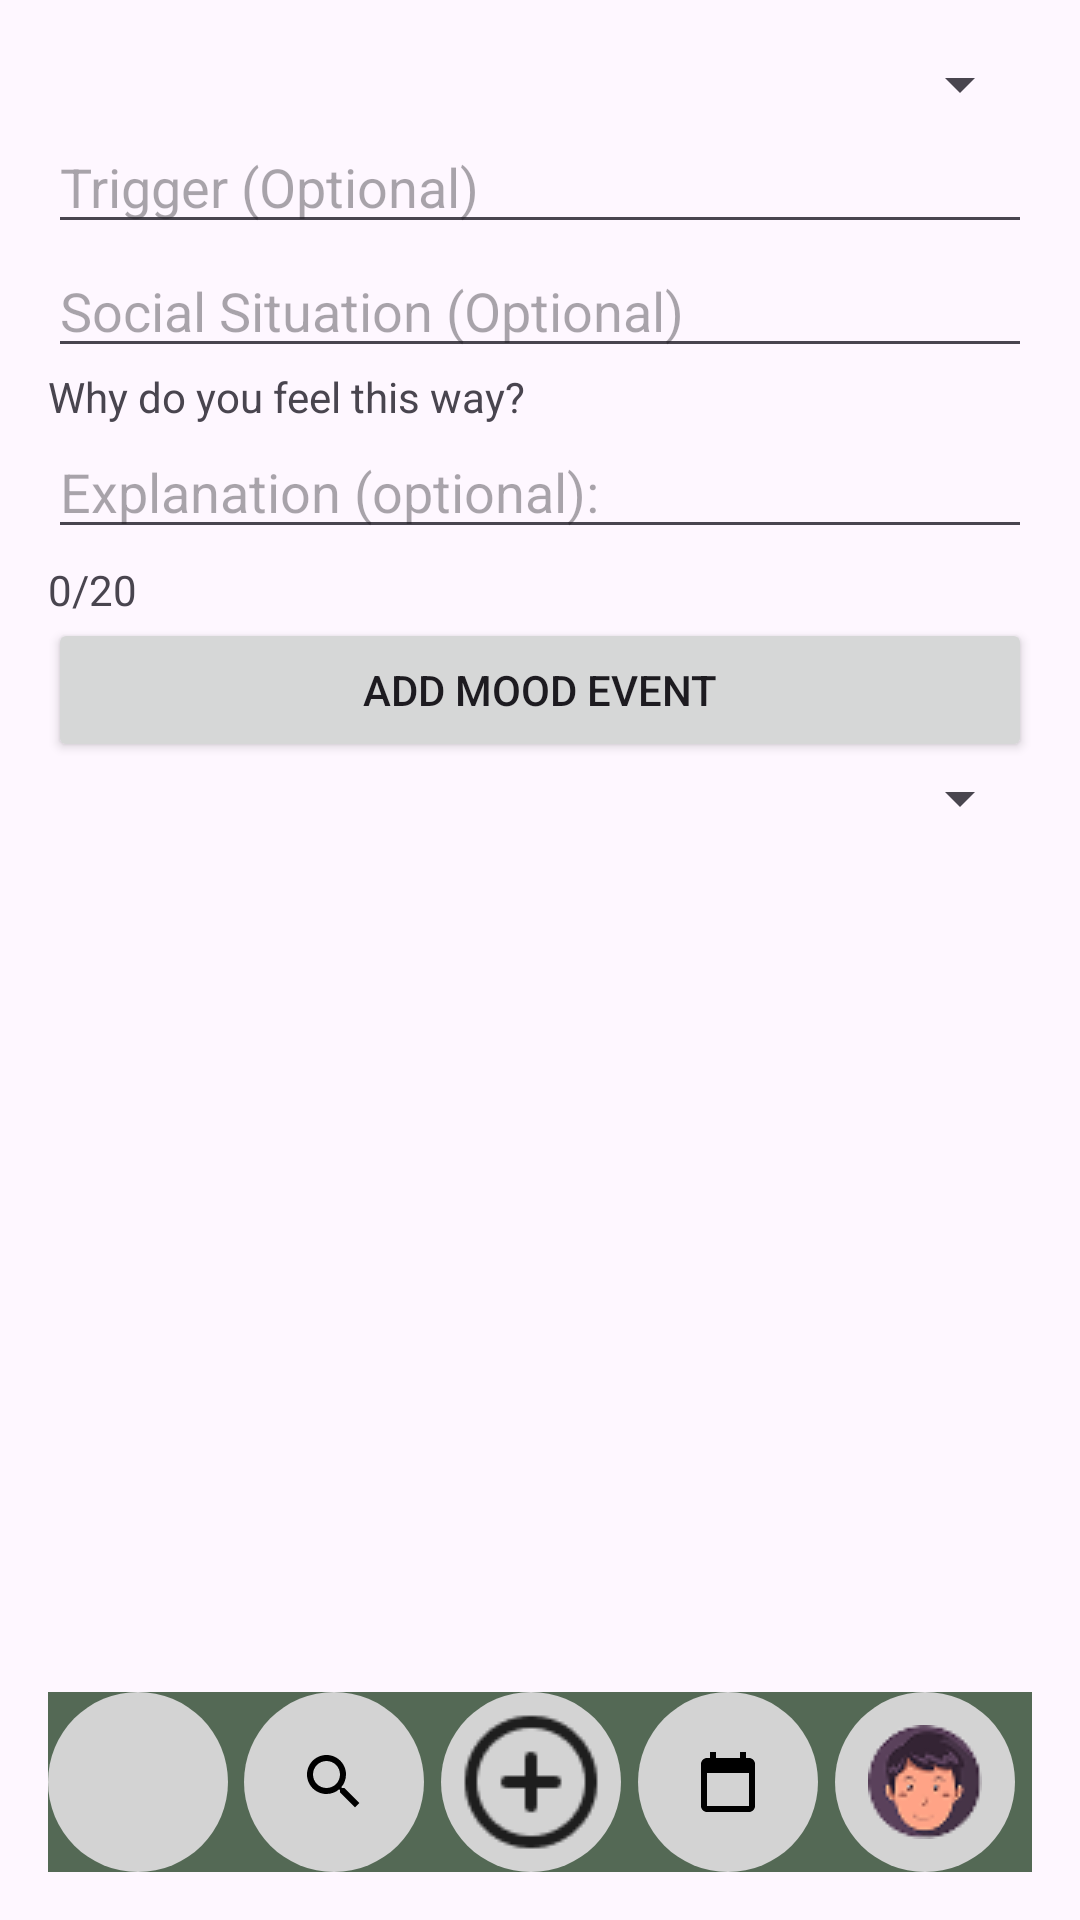

Named icons in this screenshot (1080 x 1920) and their centers, (x,y):
calendar: (728,1782)
plus circle: (531,1782)
search: (334,1782)
